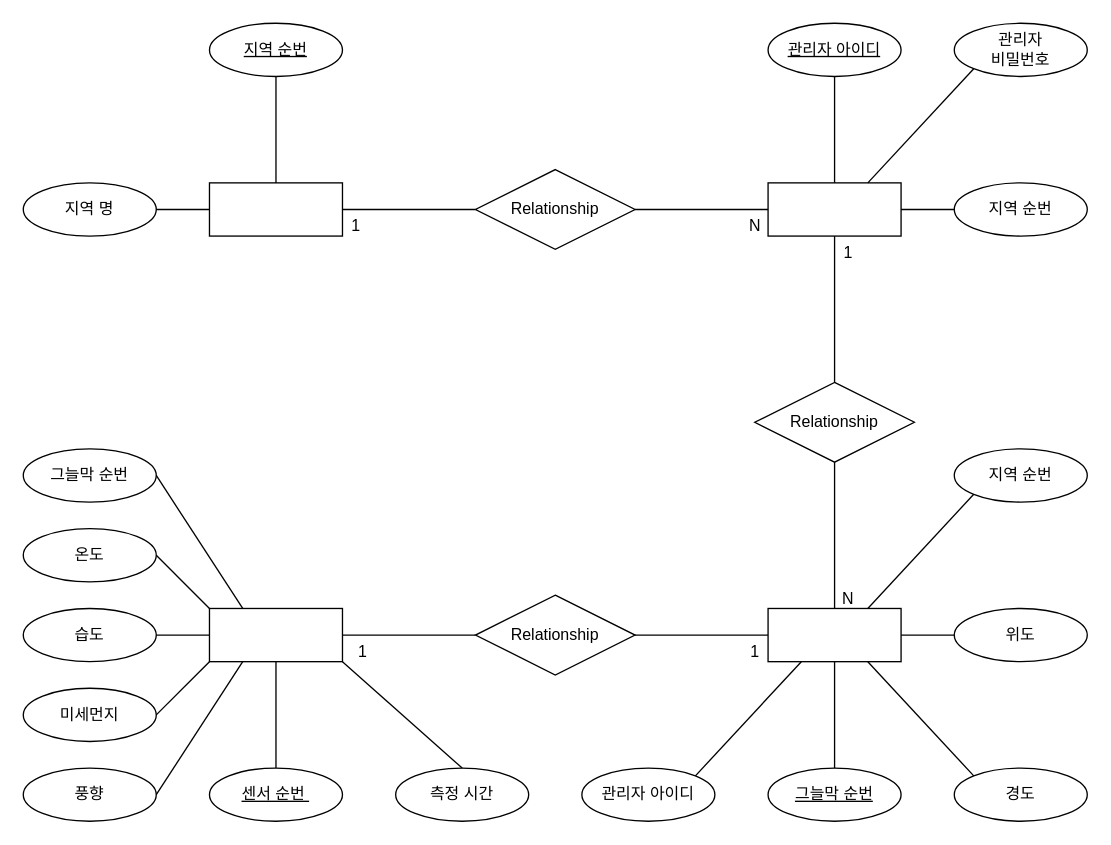
The diagram is 1111 pixels wide and 845 high, and some of its shapes have lost their labels. The shapes that lost their labels are listed below. From the top down, each one's centre as x and y in pixels, then its label:
At point (275, 209): "지역 정보".
At point (834, 209): "관리자".
At point (275, 634): "센서정보".
At point (834, 634): "그늘막".
